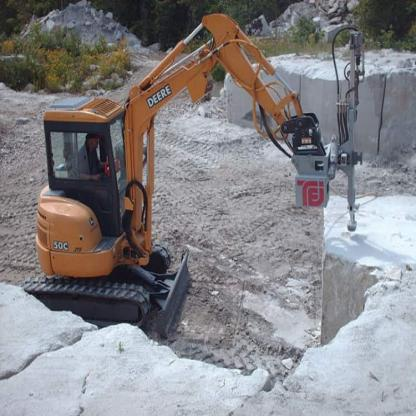excavator: (29, 14, 366, 350)
